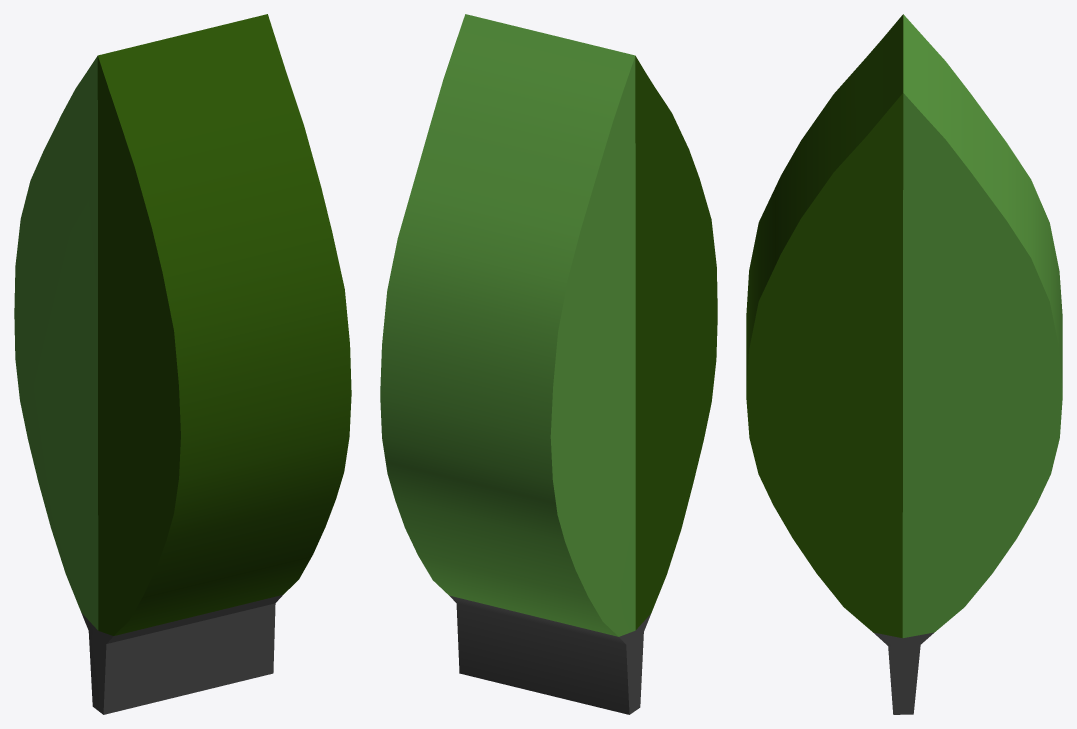
Rendered from mongo.glb.
3 views of the same model, side by side, from view 1: azimuth 30°, elevation 25°; view 2: azimuth 150°, elevation 25°; view 3: azimuth 270°, elevation 25° (orthographic). The views are drawn at different scales.
Visible parts, largest first — view 1: Cylinder; view 2: Cylinder; view 3: Cylinder.
Boxes of the visible parts, bbox=[...] form: Cylinder: bbox=[14, 14, 351, 714]; Cylinder: bbox=[380, 14, 717, 714]; Cylinder: bbox=[746, 14, 1062, 714].
Bounding box in the file's own units: 0.3176 × 1.16 × 0.5356.
